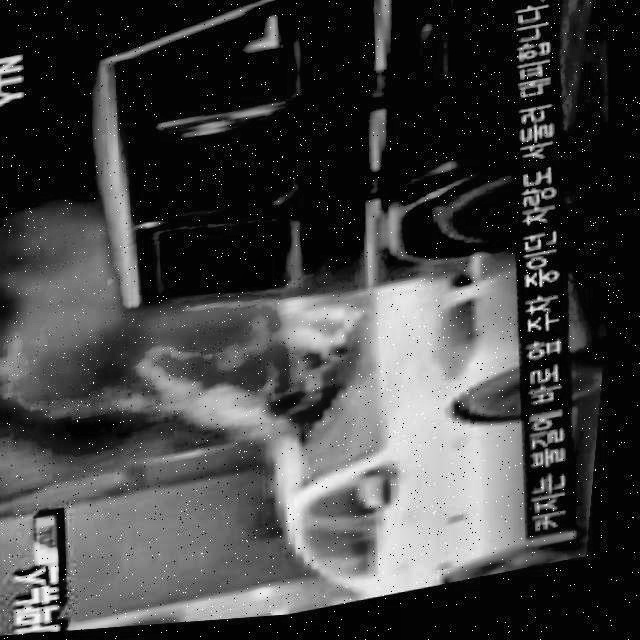Fire: (0, 144, 404, 506)
